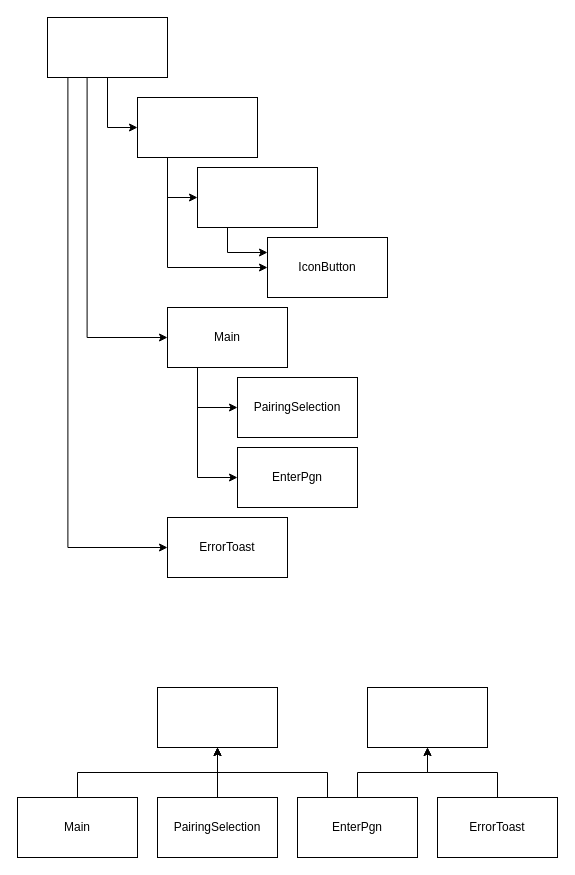
The diagram is 575 pixels wide and 875 high, and some of its shapes have lost their labels. Here are the shapes that lost their labels. From the top down, the centre of each, then its label:
At pixel 107 47: "App".
At pixel 197 127: "Toolbar".
At pixel 257 197: "Sheet".
At pixel 217 717: "AppModeState Context".
At pixel 427 717: "ErrorContext".
